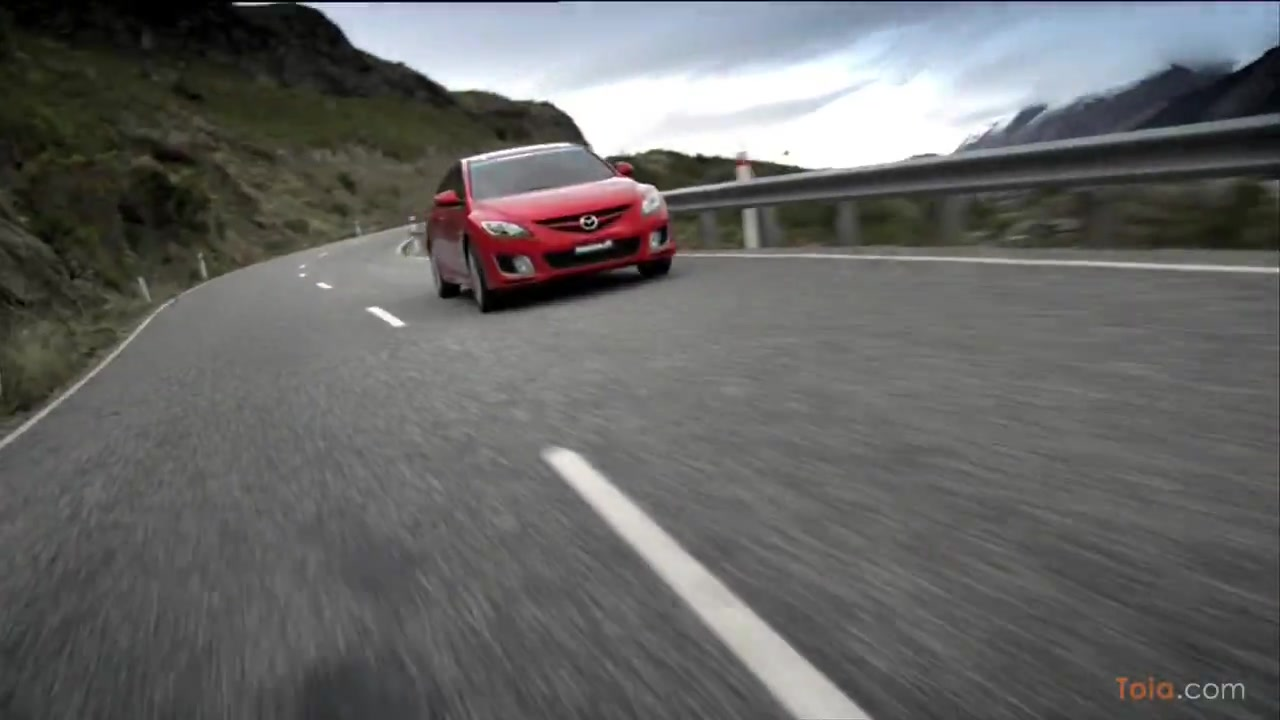car: (414, 142, 679, 315)
